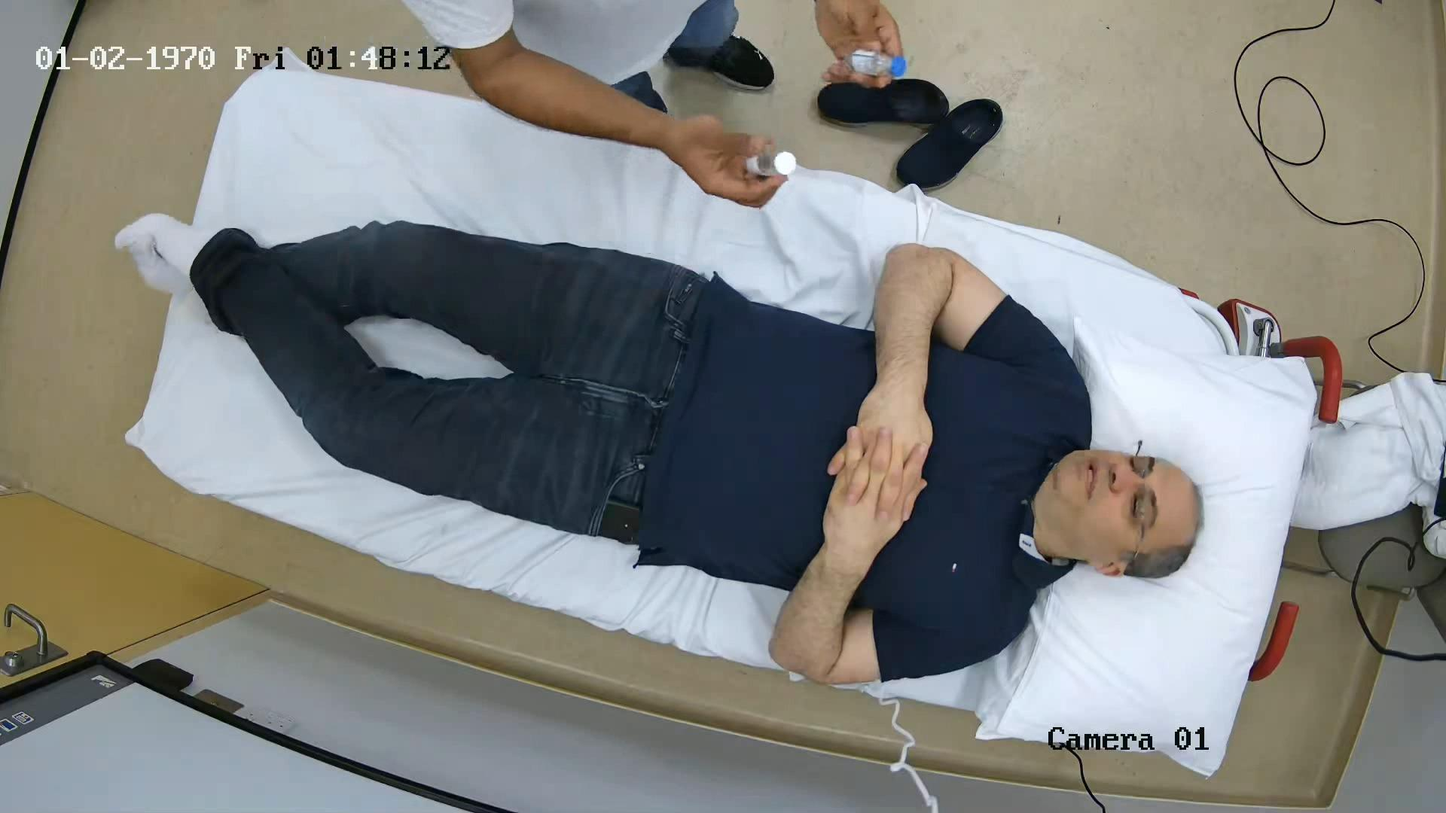augmentin: (747, 152, 797, 177)
bed: (127, 70, 1339, 775)
cefazolin: (844, 49, 906, 77)
patient: (116, 215, 1200, 684)
